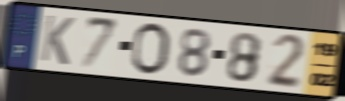2: (266, 32, 307, 90)
7: (81, 14, 121, 72)
8: (226, 30, 263, 84), (178, 26, 212, 79)
K: (38, 13, 77, 68)
O: (129, 21, 171, 77)
